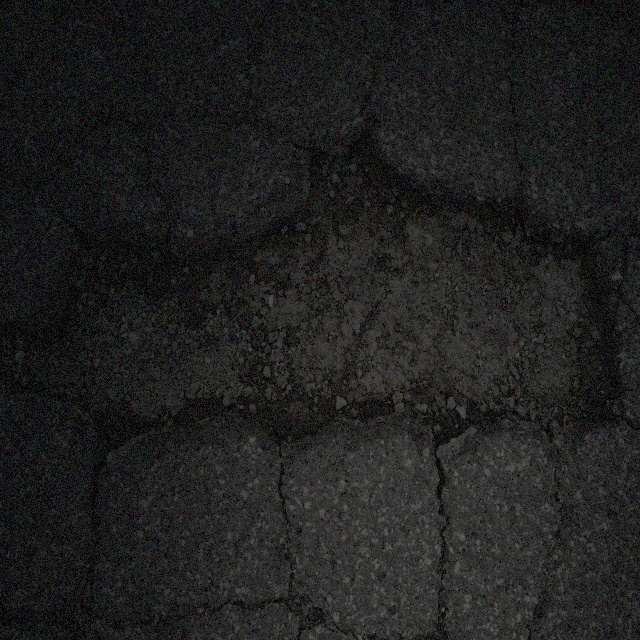pothole: (37, 122, 630, 472)
